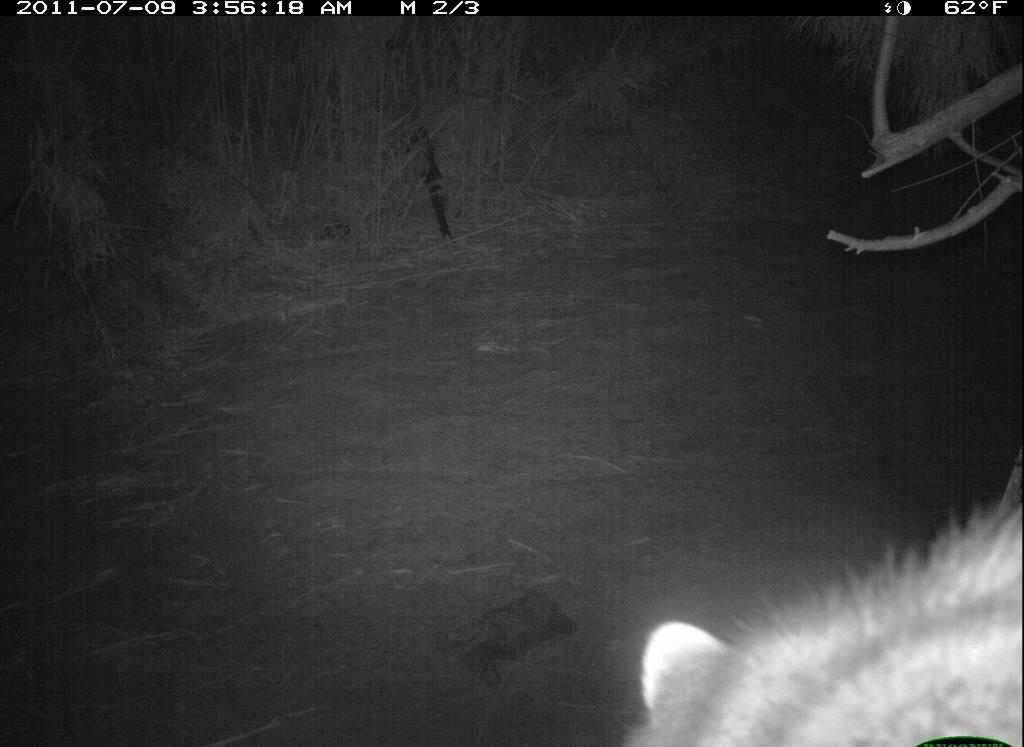raccoon: (611, 478, 1016, 745)
